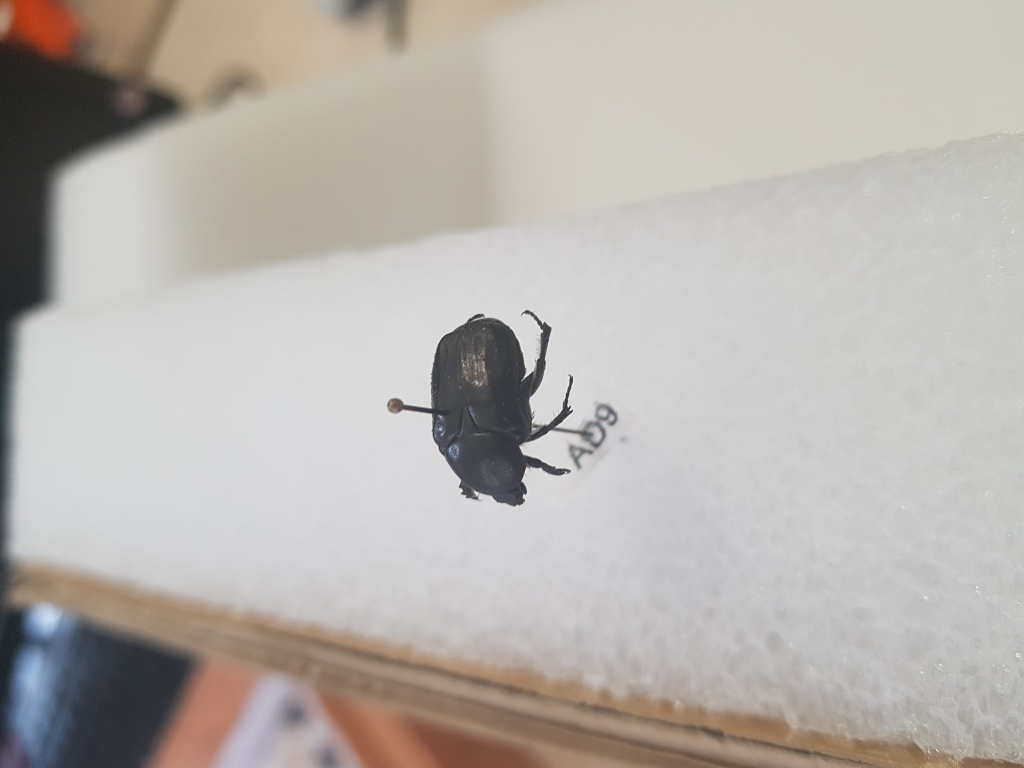Protaetia_vidua: (423, 304, 585, 510)
